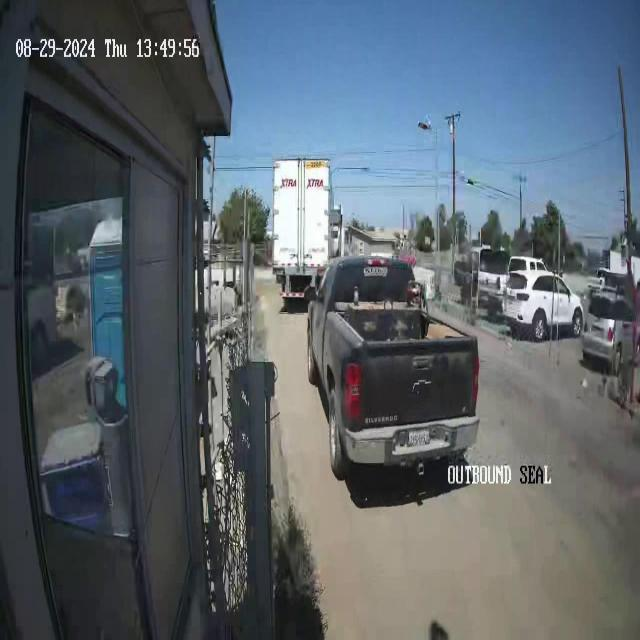TRUCK_OUT: (271, 146, 345, 307)
